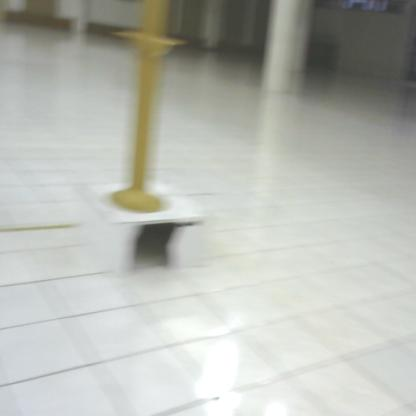pole: (101, 1, 188, 223)
